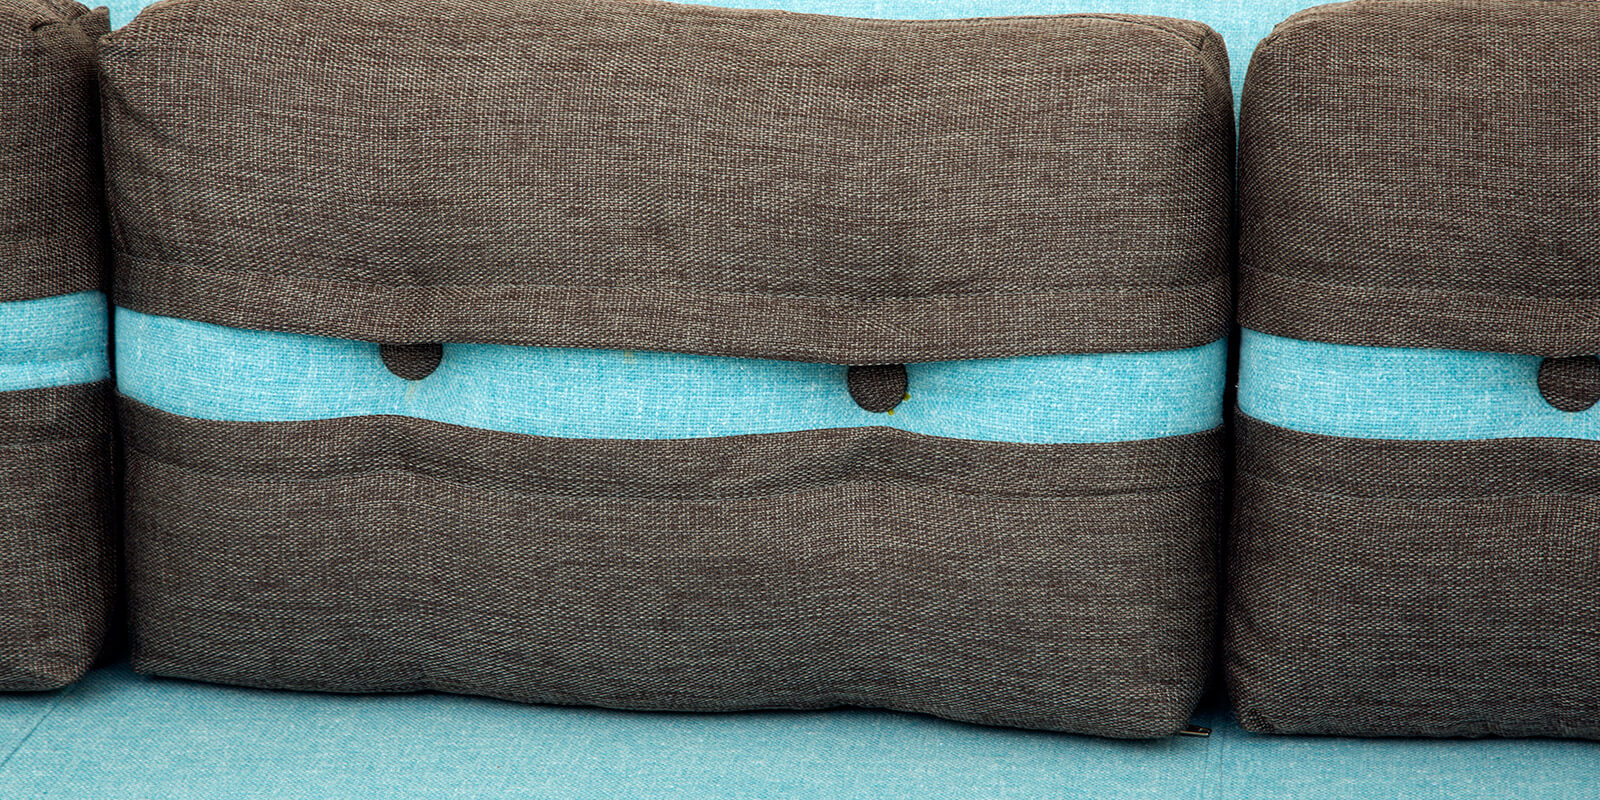Iowa Three Seater Sofa in Celeste Blue Colour by Furnitech: (2, 1, 1588, 799)
